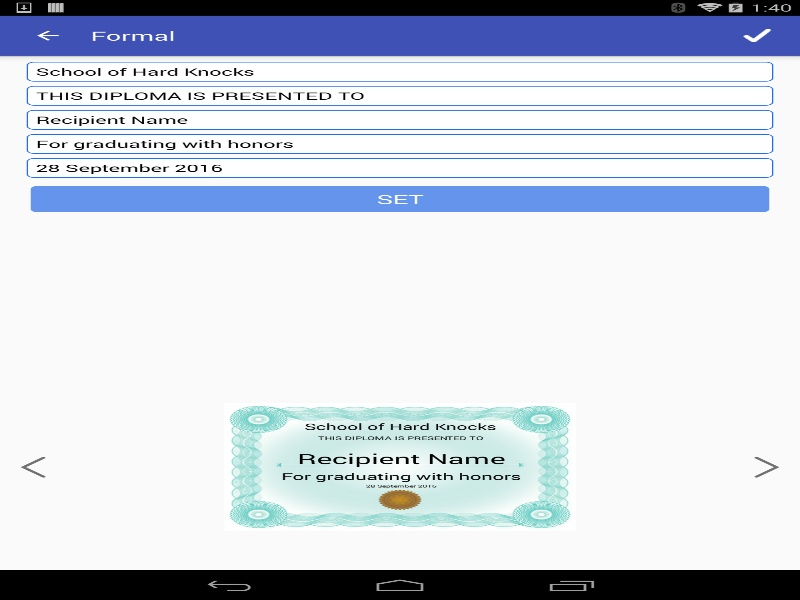Button: (26, 184, 773, 214), (10, 18, 85, 53)
Input: (26, 61, 773, 81), (26, 85, 773, 105), (26, 109, 773, 129), (26, 134, 773, 153), (26, 158, 773, 177)
